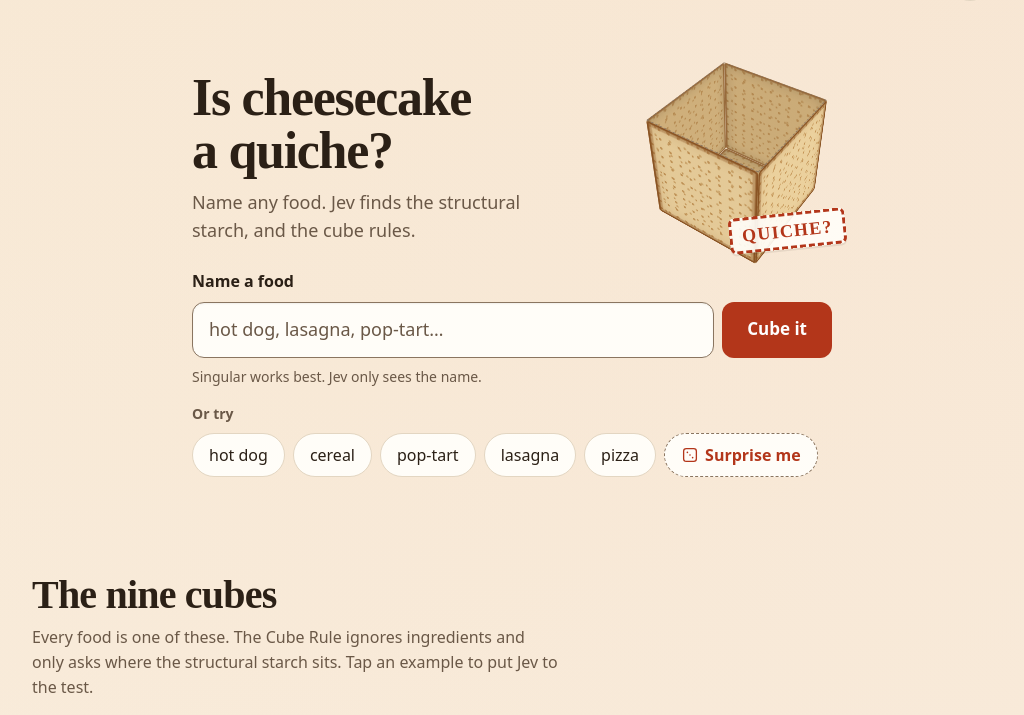
App › maps a 503 to the overheated panel
This screenshot has width=1024, height=715.
Type "taco salad" into the field labelled "Name a food" at (453, 330), box [192,302,714,358]
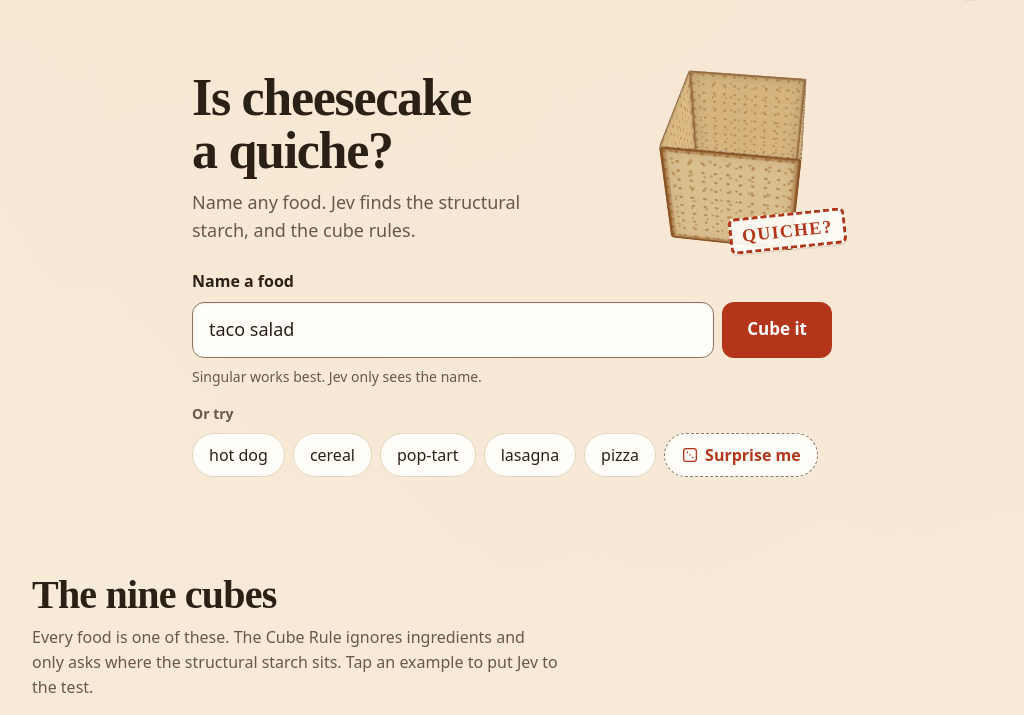
Click the button "Cube it" at (777, 330), box [722,302,832,358]
(page scrolled)
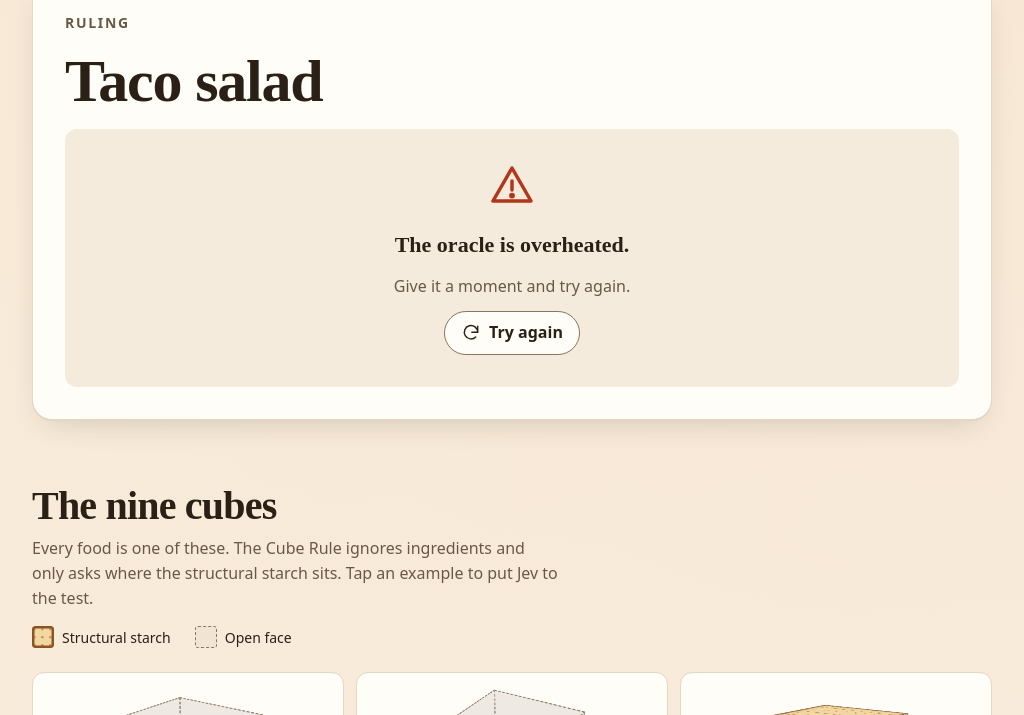
Check: the heading "The oracle is overheated." is shown, box [395,228,629,262]
